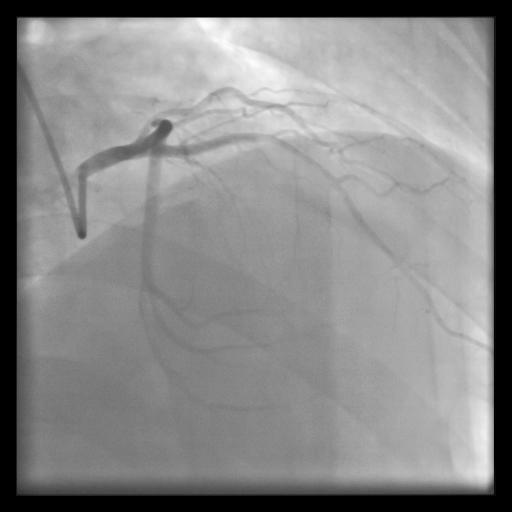Stenosis: (147, 102, 194, 120)
